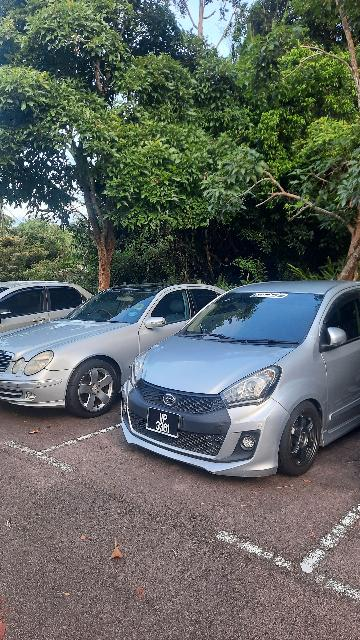License_Plate: (147, 409, 188, 442)
car: (118, 281, 360, 483)
